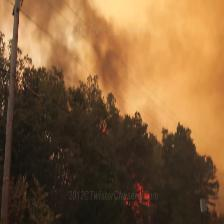fire: (111, 158, 168, 223)
smoke: (5, 0, 224, 153)
